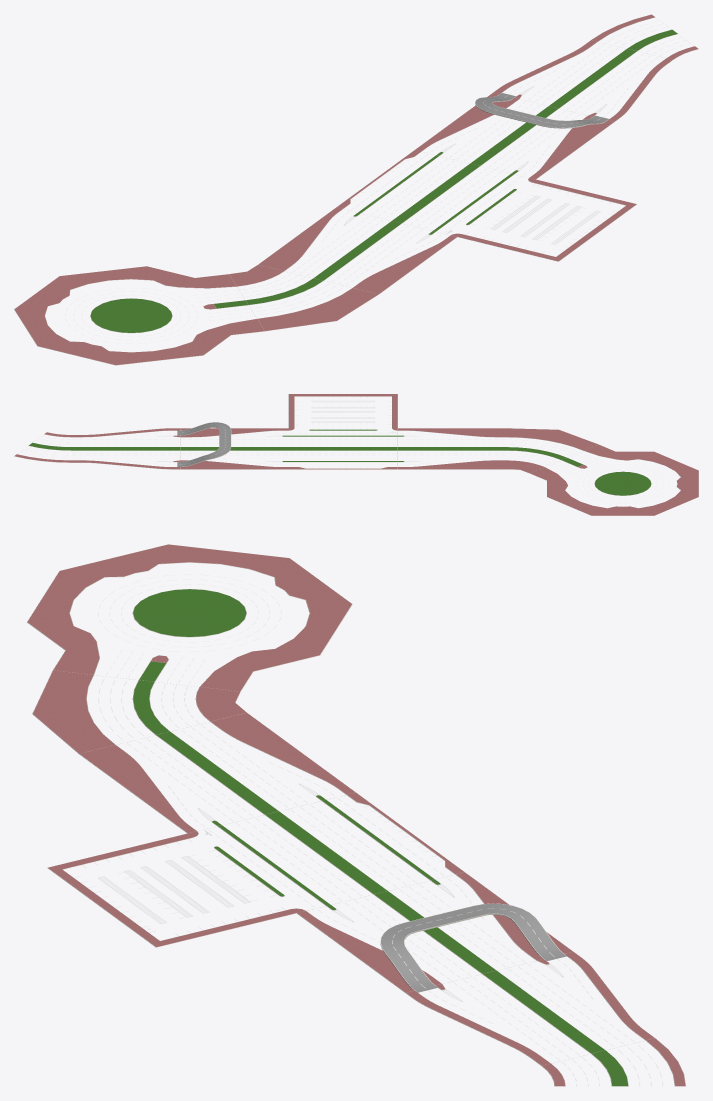
Rendered from pieraroads.glb.
3 views of the same model, one above another, from view 1: azimuth 30°, elevation 25°; view 2: azimuth 150°, elevation 25°; view 3: azimuth 270°, elevation 25° (orthographic). The views are drawn at different scales.
Parts seen in each view (by area): view 1: cityblockassetkit; view 2: cityblockassetkit; view 3: cityblockassetkit.
Part boxes in pixels (box(x1,y1,x2,y2)): cityblockassetkit: box(14, 14, 698, 365); cityblockassetkit: box(14, 394, 698, 515); cityblockassetkit: box(27, 544, 685, 1086).
Size of the model in its own units: 448 by 9.06 by 230.
Materials: 12 (11 with a texture image).
